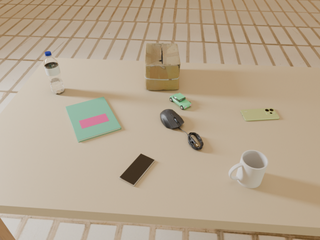book: (66, 97, 121, 142)
bottle: (44, 51, 65, 94)
box: (144, 43, 180, 90)
cup: (229, 150, 268, 188)
mouse: (160, 109, 184, 130)
phone: (119, 154, 155, 186), (241, 108, 279, 121)
toy_car: (170, 93, 191, 110)
